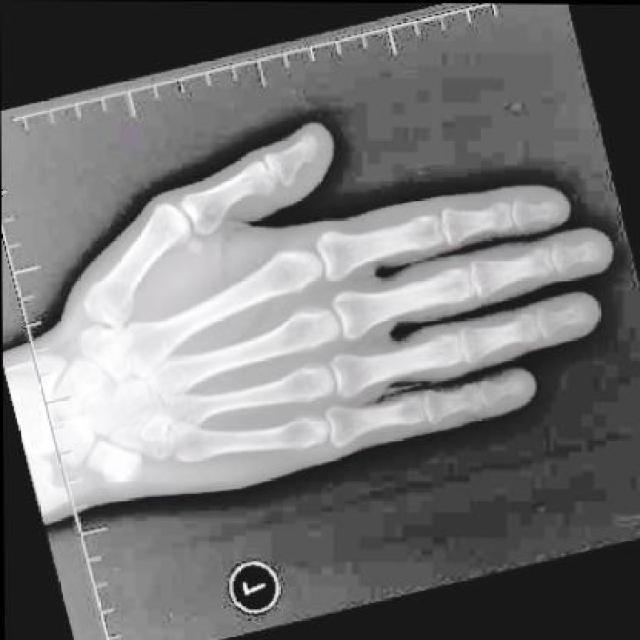Fracture: (288, 155, 318, 185)
